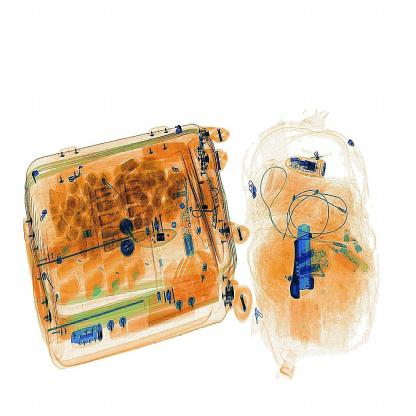pliers: (285, 218, 320, 298)
